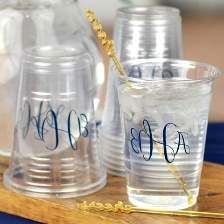glass: (102, 53, 223, 212), (88, 2, 187, 181), (0, 42, 107, 203)
